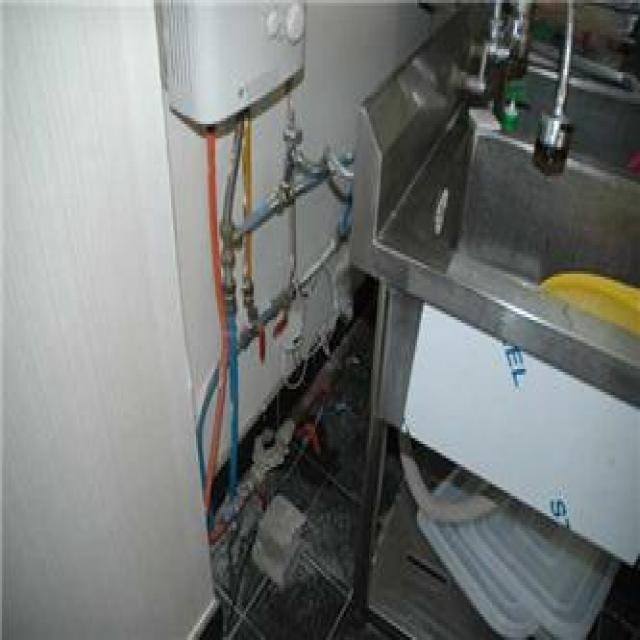Boiler: (136, 1, 328, 148)
